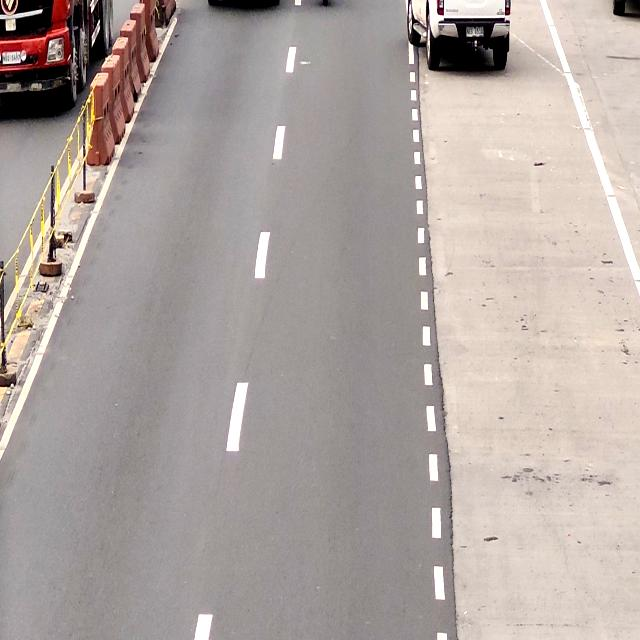Car: (405, 0, 511, 69)
License-Plate: (467, 26, 484, 39)
